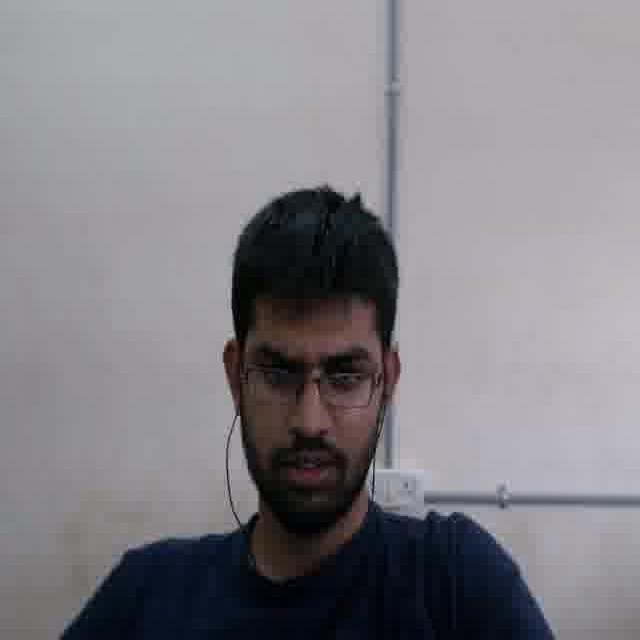Engaged: (237, 292, 379, 520)
